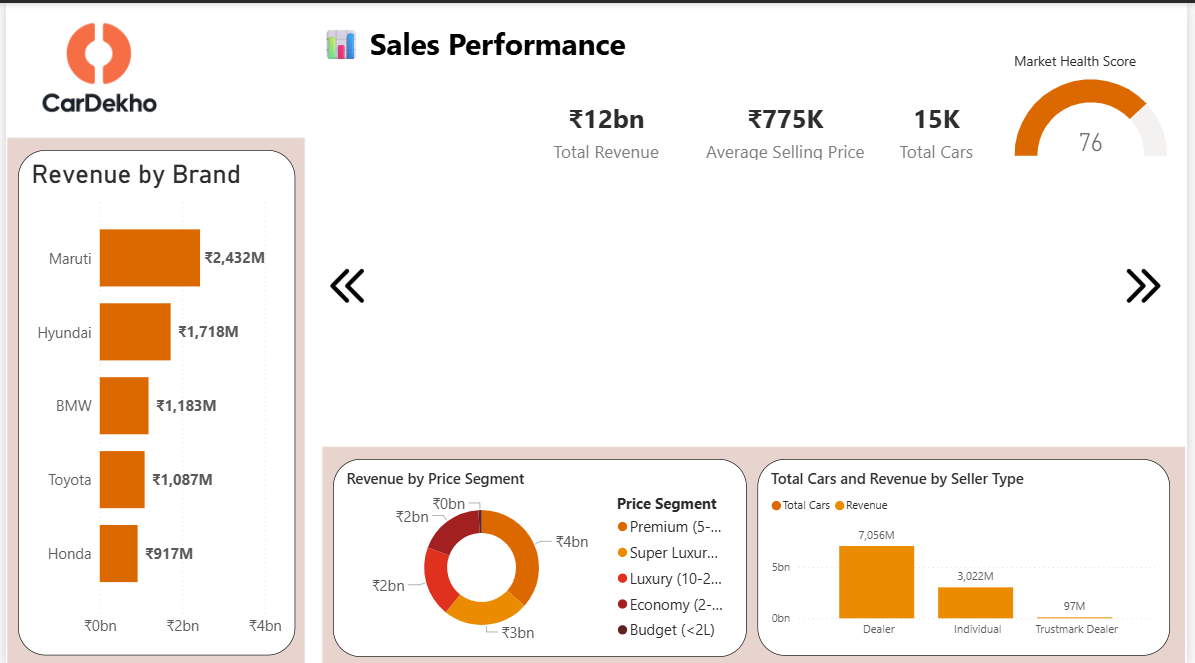

This screenshot's page, from the dashboard's own definition file:
{"tool":"powerbi","page":{"name":"Page 1","canvas":[1280,720],"ordinal":0},"visuals":[{"type":"pivotTable","fields":{"Values":["Mapping.SelectedCar"]},"box":[688,159.4,592.1,304.2],"z":0},{"type":"pivotTable","fields":{"Values":["Mapping.SelectedLogo"]},"box":[377.4,159.4,304.2,304.2],"z":1000},{"type":"shape","box":[0,144.8,325.3,575.8],"z":2000},{"type":"shape","box":[341.6,479.8,938.5,240.7],"z":3000},{"type":"barChart","fields":{"Y":["_Measures.Total Revenue 1"],"Category":["Dim_Models.brand"]},"box":[13,159.4,300.9,548.1],"z":4000},{"type":"card","fields":{"Values":["Sum(KPI_Summary.total_revenue)"]},"box":[579,92.7,143.1,89.5],"z":5000},{"type":"donutChart","fields":{"Category":["Fact_Sales.price_segment"],"Y":["_Measures.Total Revenue 1"]},"box":[354.1,493.7,448.9,214.7],"z":6000,"group":"g1"},{"type":"card","fields":{"Values":["_Measures.Average Selling Price"]},"box":[745,92.7,200.1,89.5],"z":6000},{"type":"image","box":[0,0,201.7,144.8],"z":7000},{"type":"card","fields":{"Values":["Sum(KPI_Summary.total_cars)"]},"box":[928.8,92.3,159.4,89.5],"z":8000},{"type":"gauge","fields":{"Y":["_Measures.Market Health Score"]},"box":[1088.2,52,175.7,123.6],"z":9000},{"type":"textbox","box":[336.7,16.3,408.3,56.9],"z":10000},{"type":"columnChart","fields":{"Category":["Fact_Sales.seller_type"],"Y":["_Measures.Total Cars","_Measures.Total Revenue 1"]},"box":[814.4,493.7,447.3,213.1],"z":11000,"group":"g1"},{"type":"group","id":"g1","title":"Group 1","box":[354.1,493.7,907.6,214.7],"z":11000},{"type":"image","box":[1205.3,283,56.9,47.2],"z":12000},{"type":"image","box":[341.6,283,56.9,47.2],"z":13000}]}

Visuals, with their boxes in screenshot pixels (x1, y1, x2, y2), scaled from the page's 1280x720 canvas onto the 1195x663 screenshot:
pivotTable - Mapping.SelectedCar: bbox(642, 147, 1194, 427)
pivotTable - Mapping.SelectedLogo: bbox(352, 147, 636, 427)
shape: bbox(0, 133, 304, 662)
shape: bbox(319, 442, 1194, 662)
barChart - _Measures.Total Revenue 1 x Dim_Models.brand: bbox(12, 147, 293, 651)
card - Sum(KPI_Summary.total_revenue): bbox(541, 85, 674, 168)
donutChart - Fact_Sales.price_segment x _Measures.Total Revenue 1: bbox(331, 455, 750, 652)
card - _Measures.Average Selling Price: bbox(696, 85, 882, 168)
image: bbox(0, 0, 188, 133)
card - Sum(KPI_Summary.total_cars): bbox(867, 85, 1016, 167)
gauge - _Measures.Market Health Score: bbox(1016, 48, 1180, 162)
textbox: bbox(314, 15, 696, 67)
columnChart - Fact_Sales.seller_type x _Measures.Total Cars: bbox(760, 455, 1178, 651)
"Group 1" group: bbox(331, 455, 1178, 652)
image: bbox(1125, 261, 1178, 304)
image: bbox(319, 261, 372, 304)
